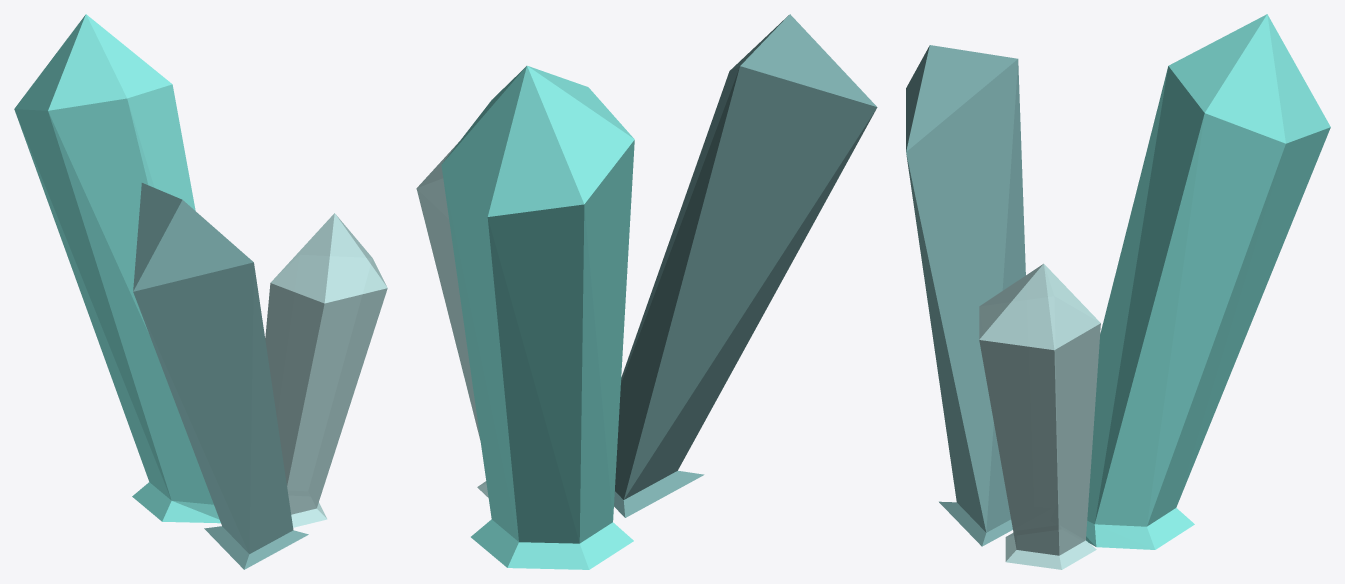
The model's file is Crystal_blue_middle.fbx.
3 views of the same model, side by side, from view 1: azimuth 30°, elevation 25°; view 2: azimuth 150°, elevation 25°; view 3: azimuth 270°, elevation 25° (orthographic). The views are drawn at different scales.
Parts seen in each view (by area): view 1: prop_crystal_blue_middle; view 2: prop_crystal_blue_middle; view 3: prop_crystal_blue_middle.
Boxes of the visible parts, x1,y1,x2,y2 form: prop_crystal_blue_middle: [14, 14, 387, 569]; prop_crystal_blue_middle: [416, 14, 877, 569]; prop_crystal_blue_middle: [906, 14, 1330, 569].
Bounding box in the file's own units: 44.13 × 61.15 × 48.62.
